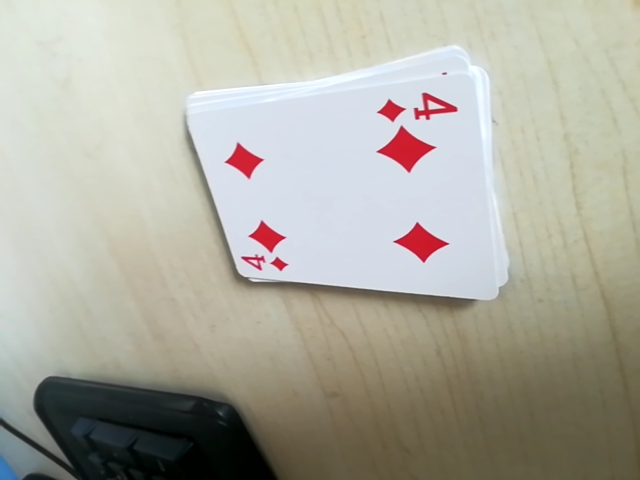fk 4: (381, 84, 462, 128), (235, 247, 295, 280)
